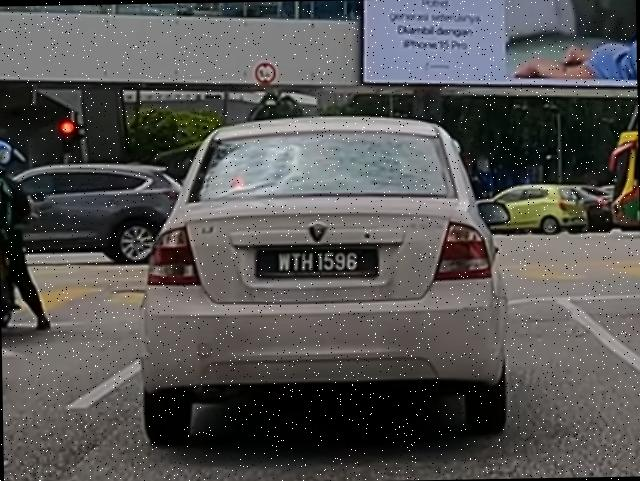License_Plate: (253, 244, 380, 281)
car: (134, 111, 513, 446), (9, 160, 184, 266)
